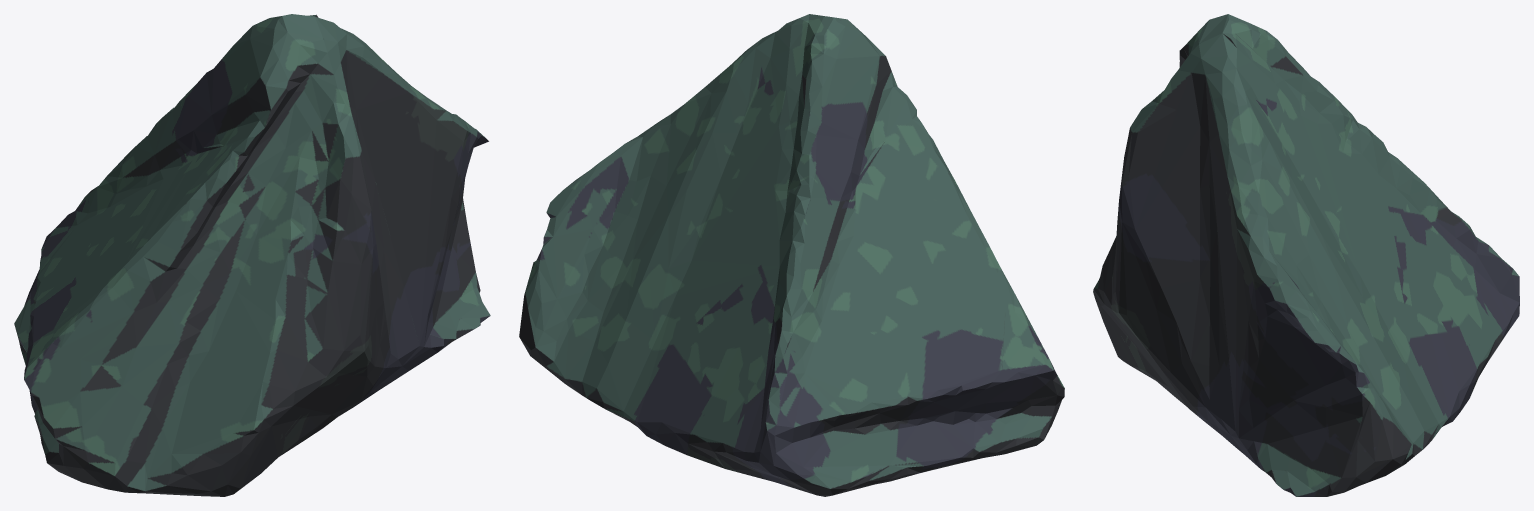
The model's file is ROCK_C.fbx.
The picture shows the model from 3 angles, left to right: view 1: azimuth 30°, elevation 25°; view 2: azimuth 150°, elevation 25°; view 3: azimuth 270°, elevation 25°; orthographic projection. The views are drawn at different scales.
Visible parts, largest first — view 1: ROCK_C; view 2: ROCK_C; view 3: ROCK_C.
Part boxes in pixels (x1,y1,x2,y2): ROCK_C: (14,14,490,496); ROCK_C: (519,14,1064,496); ROCK_C: (1093,14,1519,496).
Bounding box in the file's own units: 424 × 332 × 324.
